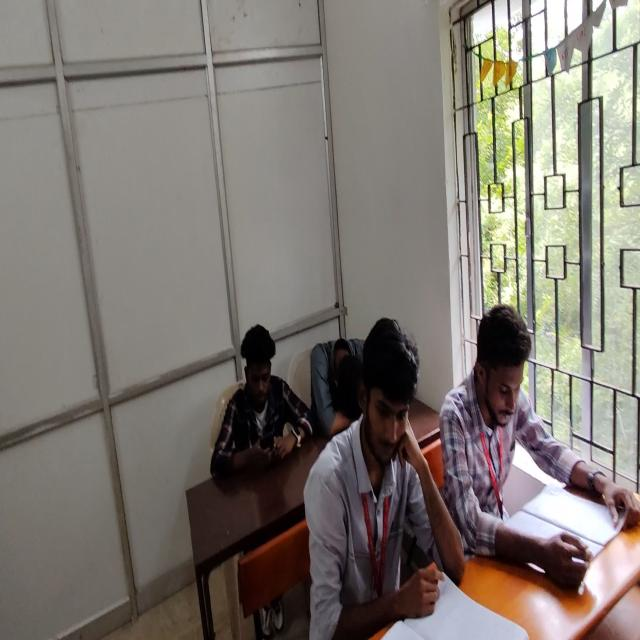reading: (440, 303, 640, 589), (303, 319, 456, 639)
sleeping: (311, 334, 367, 440)
using_mobile: (211, 321, 315, 477)
